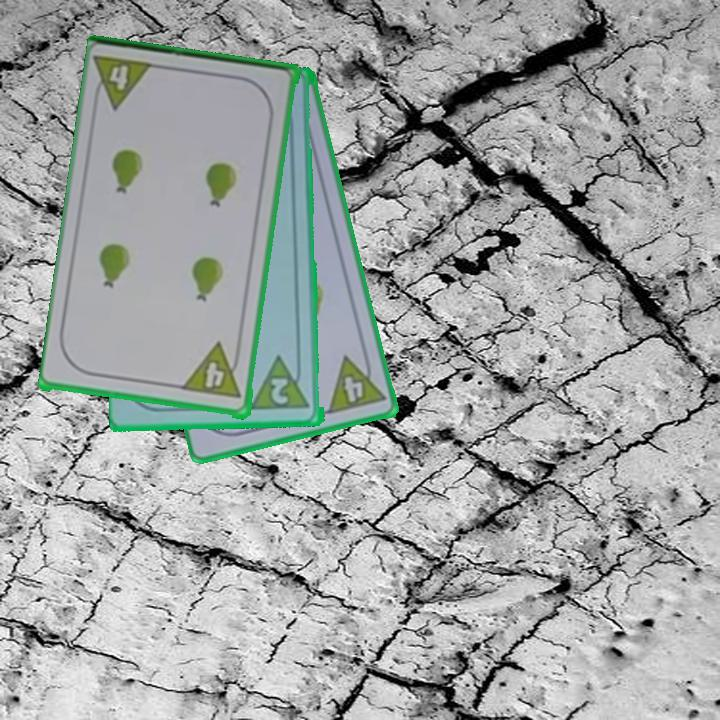2p: (268, 375, 294, 408)
4p: (324, 348, 388, 417), (89, 51, 159, 114), (180, 341, 245, 402)
